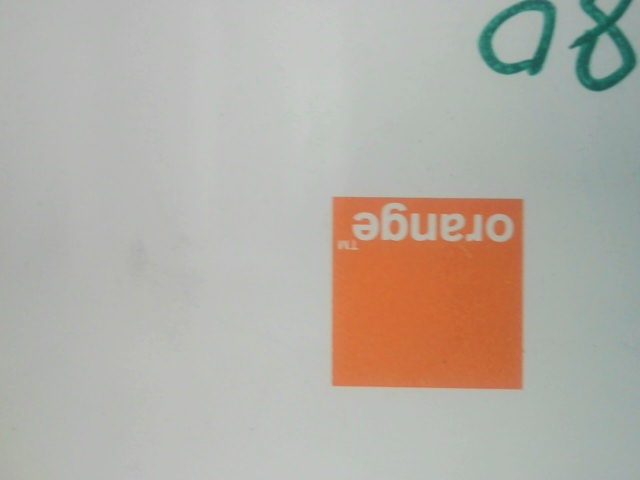AR_Orange: (319, 188, 538, 396)
